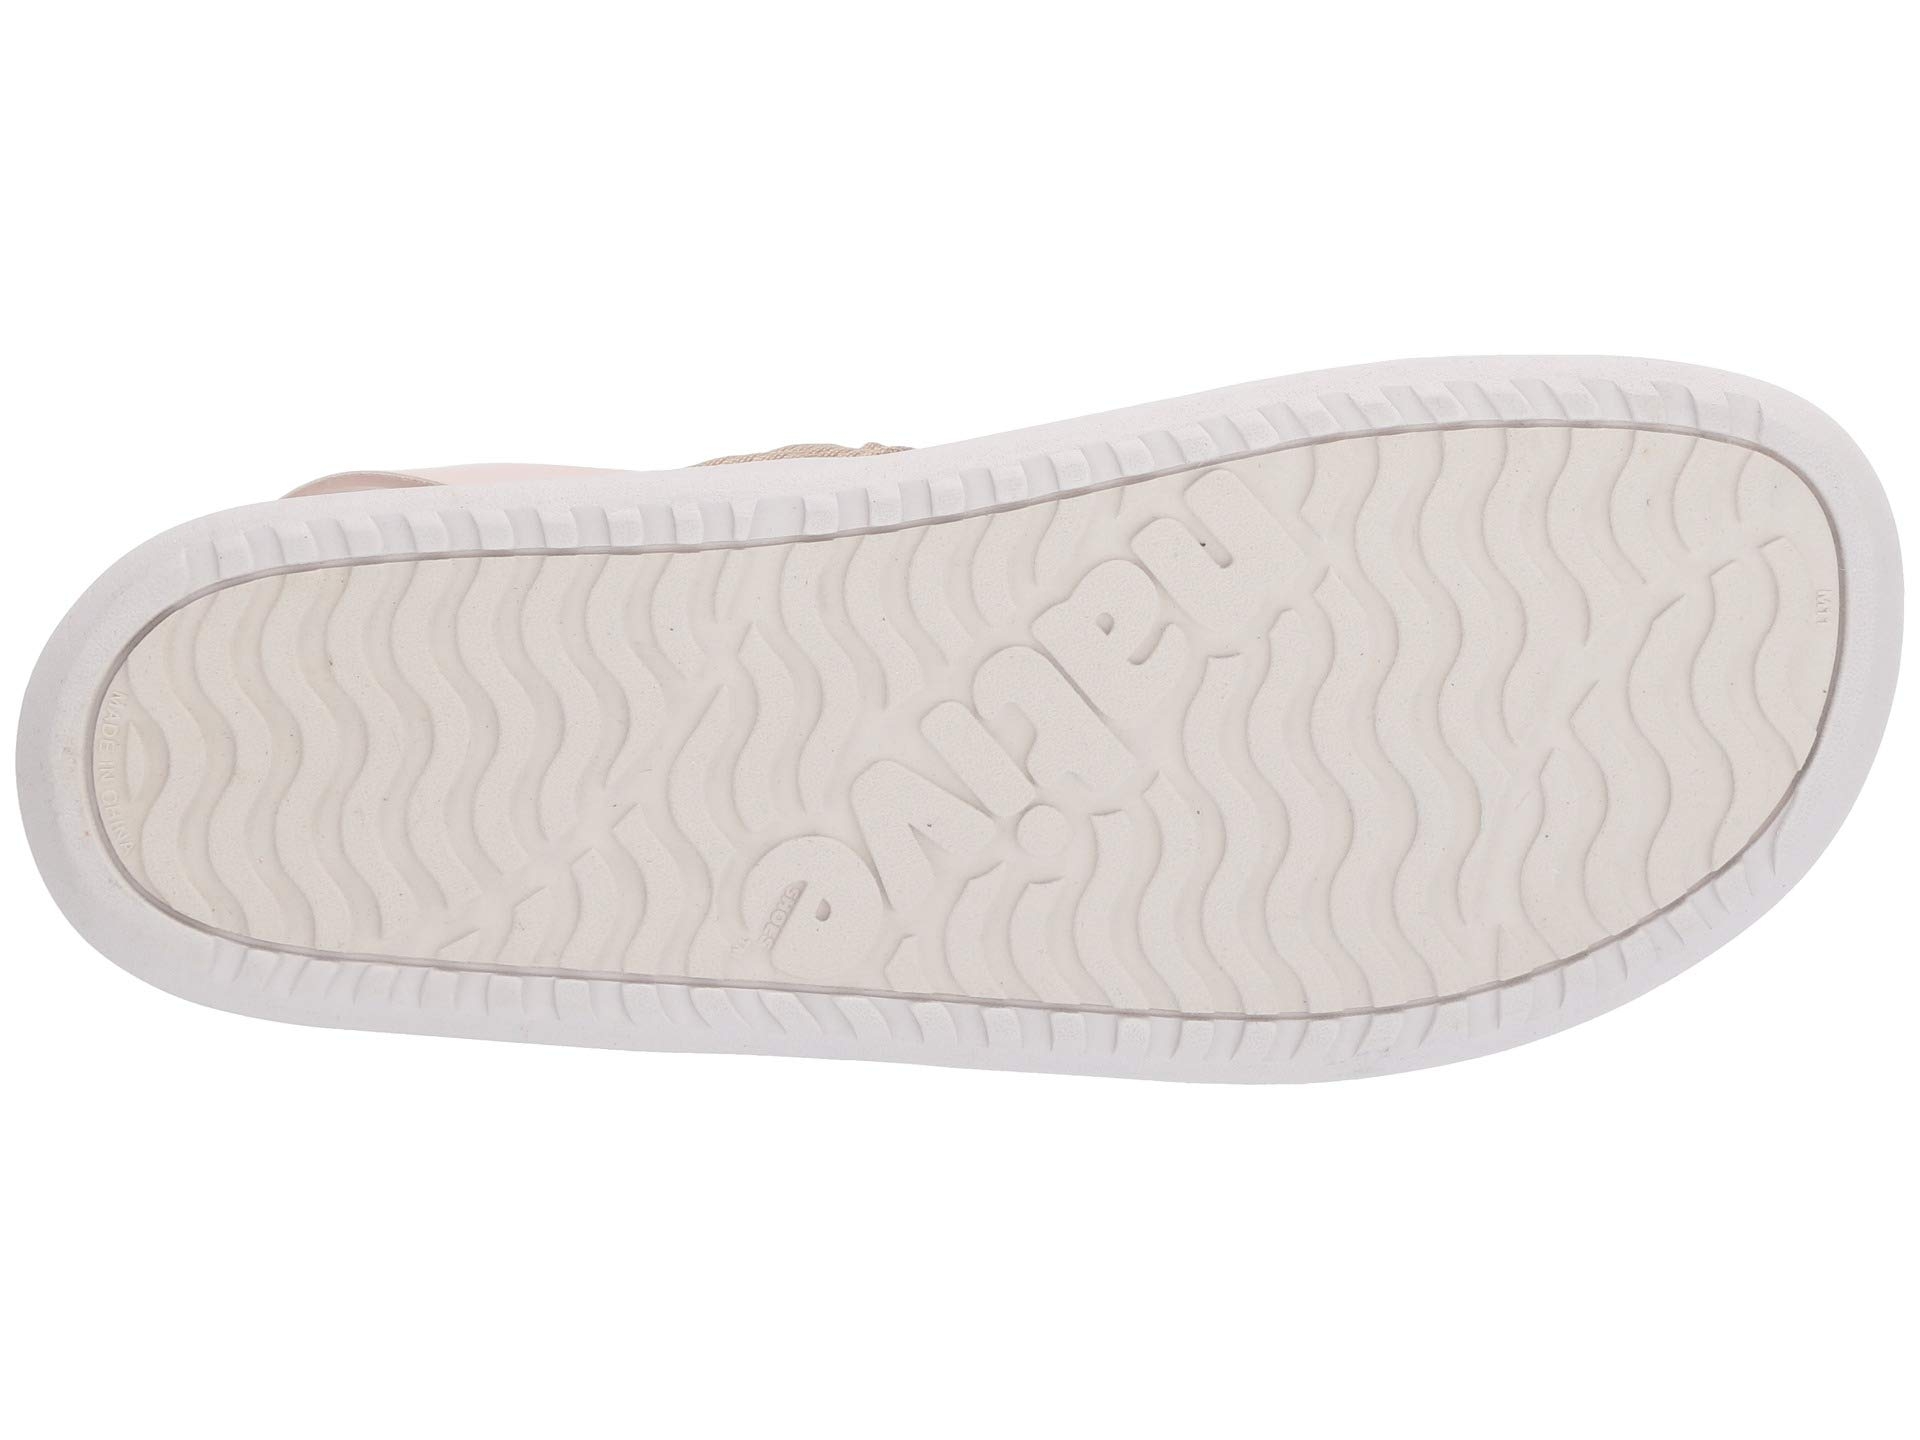chevron: (210, 605, 514, 923)
